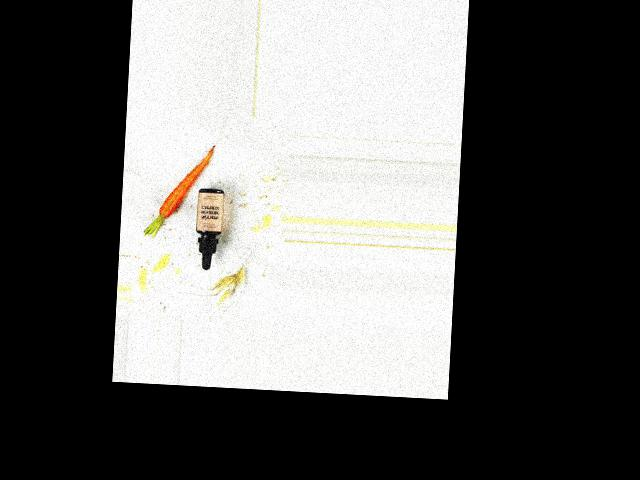carrot: (153, 137, 225, 225)
